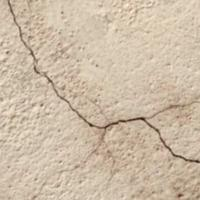crack: (5, 0, 199, 165)
